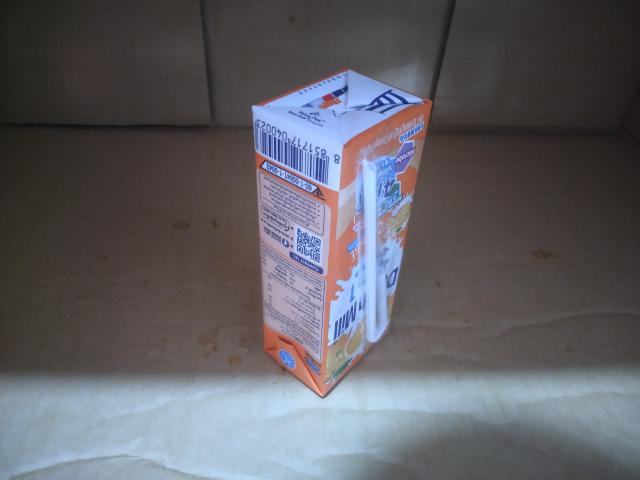drink_box: (234, 55, 455, 408)
